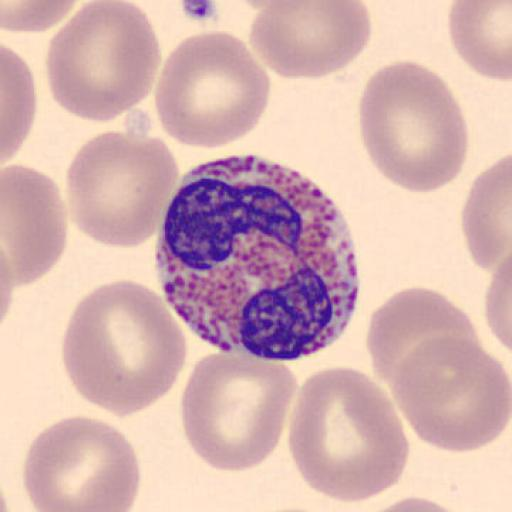RBC: (61, 278, 188, 420), (288, 365, 410, 502), (357, 58, 469, 196), (178, 348, 298, 474), (44, 0, 162, 126), (391, 333, 512, 454), (153, 28, 272, 151), (64, 128, 181, 250), (366, 284, 480, 394), (22, 413, 142, 512), (246, 0, 373, 80), (2, 164, 68, 286), (461, 151, 512, 274), (446, 0, 512, 82), (2, 44, 38, 165), (483, 252, 512, 359), (2, 0, 80, 34), (355, 493, 472, 512), (0, 239, 17, 338), (245, 505, 334, 512)
WBC: (155, 155, 364, 358)
